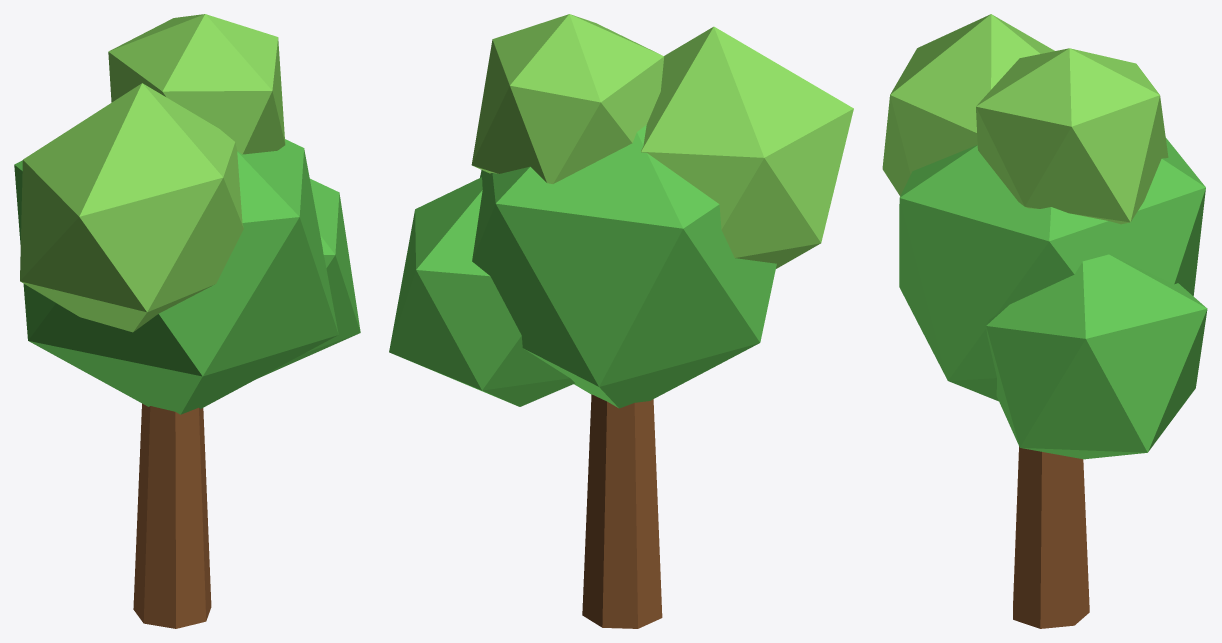
Rendered from Tree.fbx.
3 renders of one model, left to right at view 1: azimuth 30°, elevation 25°; view 2: azimuth 150°, elevation 25°; view 3: azimuth 270°, elevation 25°, orthographic. The views are drawn at different scales.
Parts seen in each view (by area): view 1: LeavesLight, Leaves, Wood; view 2: Leaves, LeavesLight, Wood; view 3: Leaves, LeavesLight, Wood.
Boxes of the visible parts, <box> form: LeavesLight: <box>20,14,285,332</box>; Leaves: <box>14,139,360,414</box>; Wood: <box>133,403,211,628</box>; Leaves: <box>389,125,776,408</box>; LeavesLight: <box>471,14,853,268</box>; Wood: <box>582,394,662,628</box>; Leaves: <box>899,137,1207,459</box>; LeavesLight: <box>882,14,1168,224</box>; Wood: <box>1013,446,1089,628</box>.
Size of the model in its own units: 2.88 by 4.47 by 2.25.
